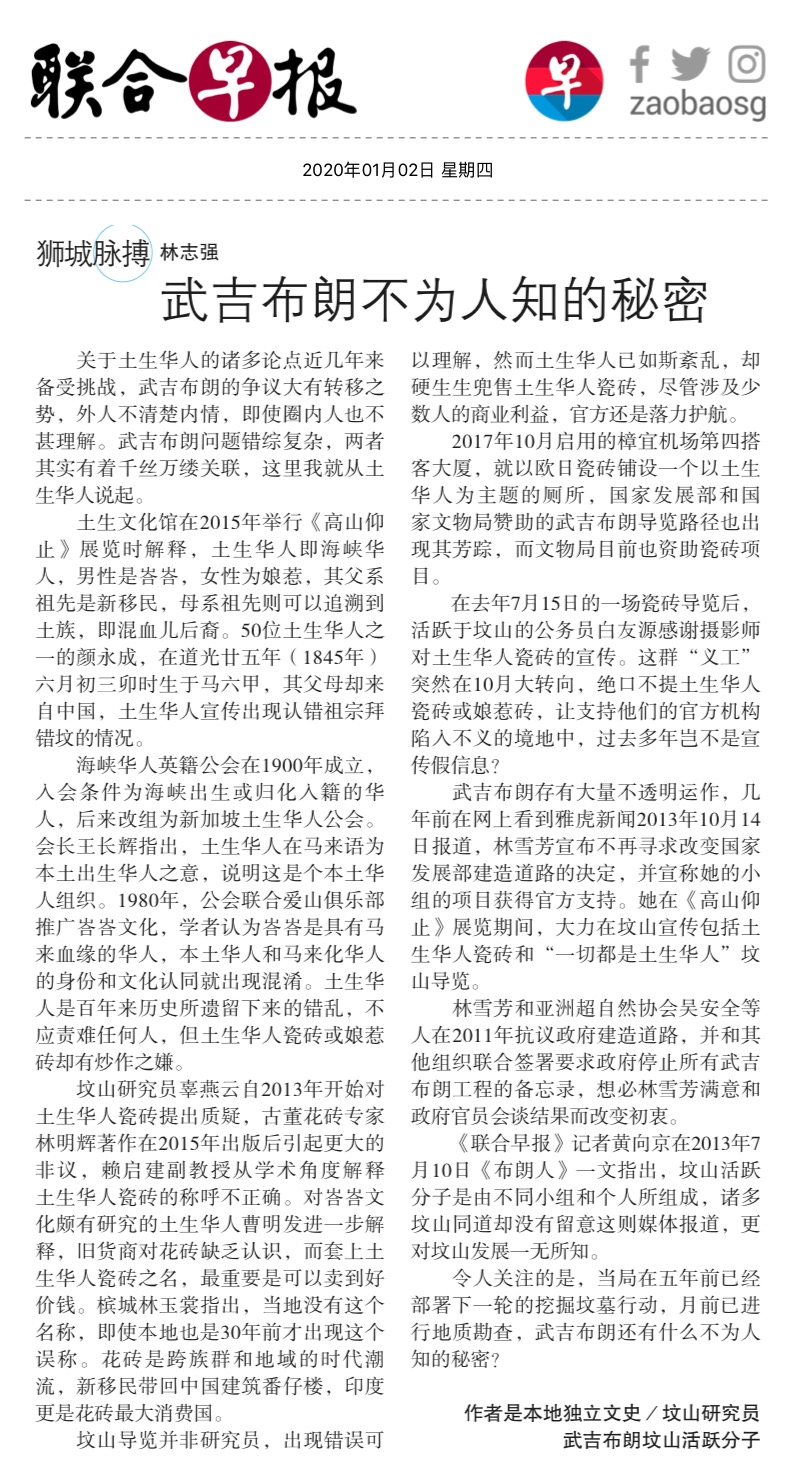heading: (155, 269, 713, 327)
